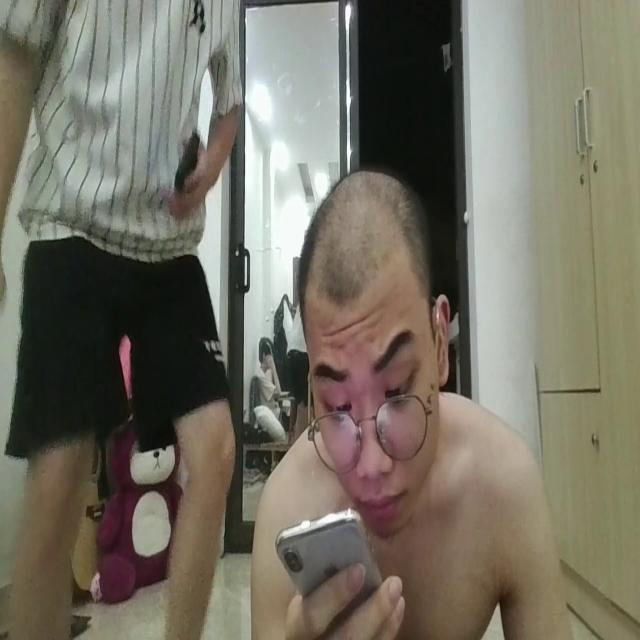extra_person: (0, 0, 246, 640)
phone: (264, 482, 400, 640), (162, 109, 217, 222)
student: (248, 152, 573, 640)
